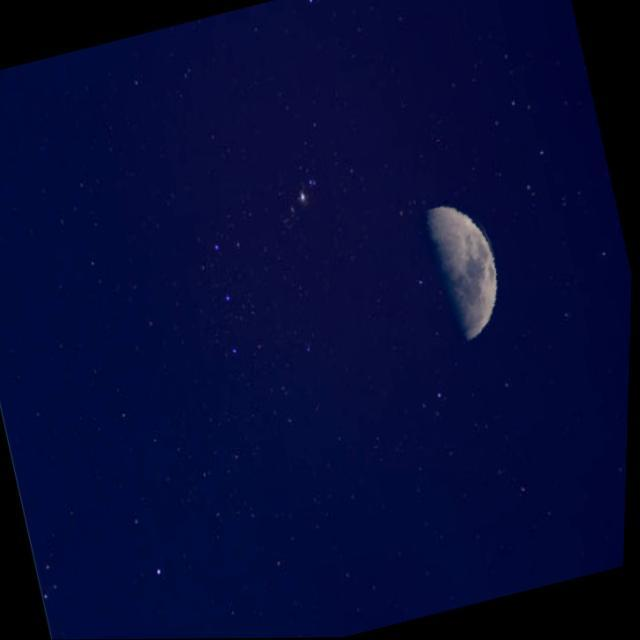moon: (364, 195, 524, 378)
